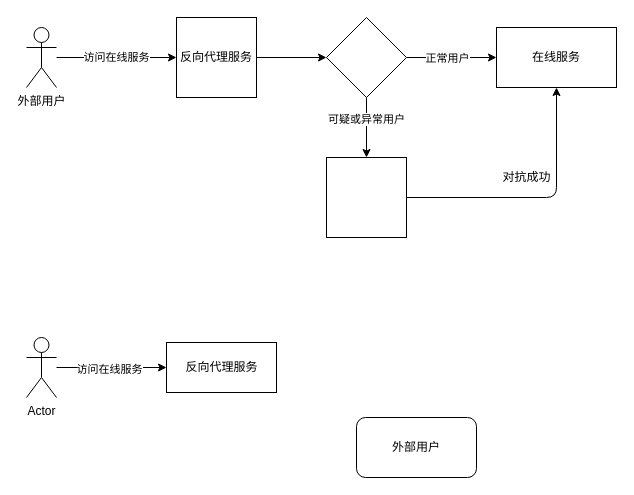
The diagram is 634 pixels wide and 495 high, and some of its shapes have lost their labels. Here are the shapes that lost their labels. From the top down, the centre of each, then its label:
the point at 366,57: 风险评估
the point at 366,197: 人机对抗服务
